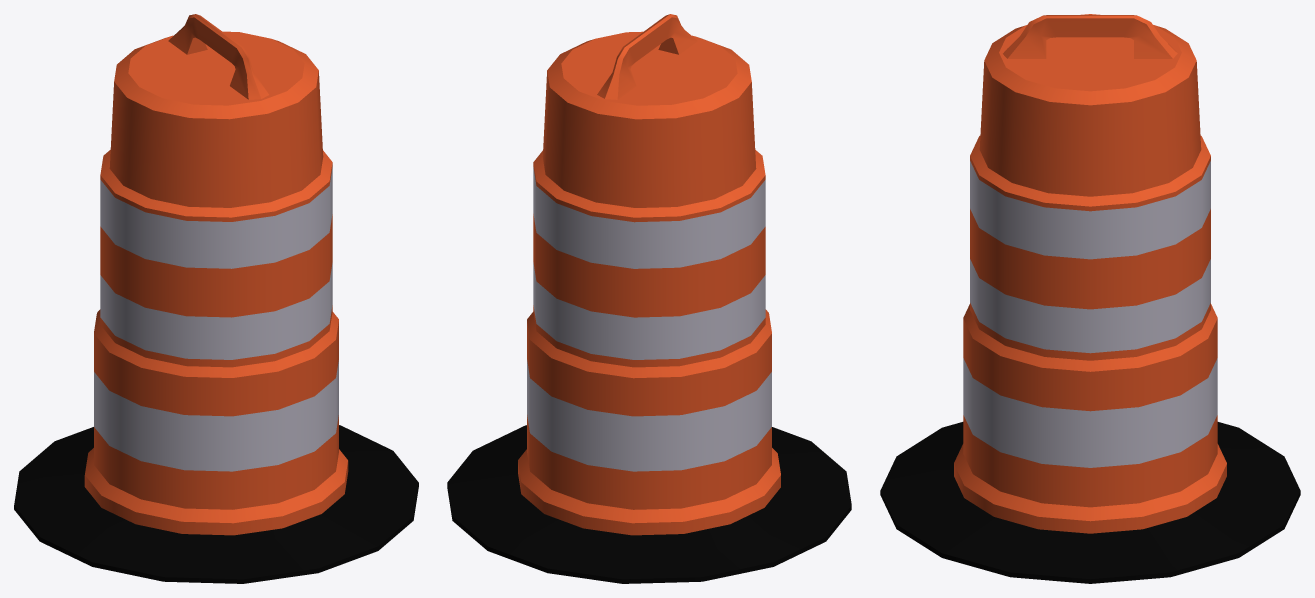
The model's file is TrafficBarrel.fbx.
The picture shows the model from 3 angles, left to right: view 1: azimuth 30°, elevation 25°; view 2: azimuth 150°, elevation 25°; view 3: azimuth 270°, elevation 25°; orthographic projection. The views are drawn at different scales.
Visible parts, largest first — view 1: TrafficBarrel; view 2: TrafficBarrel; view 3: TrafficBarrel.
Part boxes in pixels (x1,y1,x2,y2): TrafficBarrel: (14,14,418,583); TrafficBarrel: (447,14,851,583); TrafficBarrel: (880,14,1300,583).
Bounding box in the file's own units: 337 × 425 × 337.
